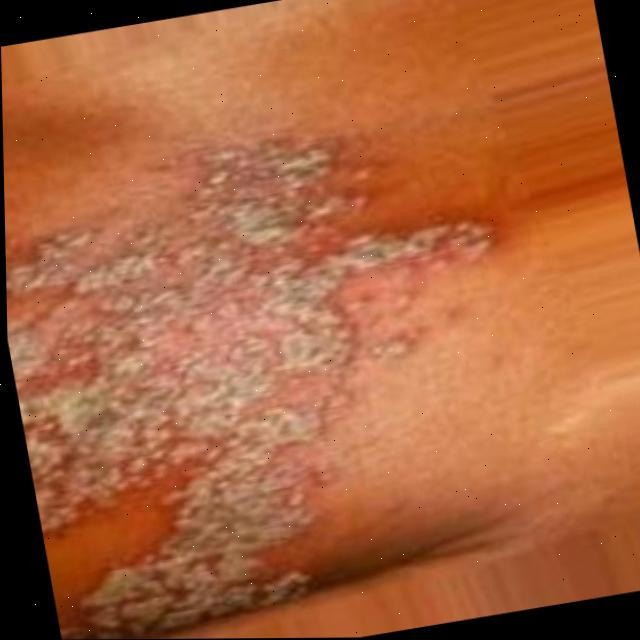Shingles: (2, 104, 560, 640)
